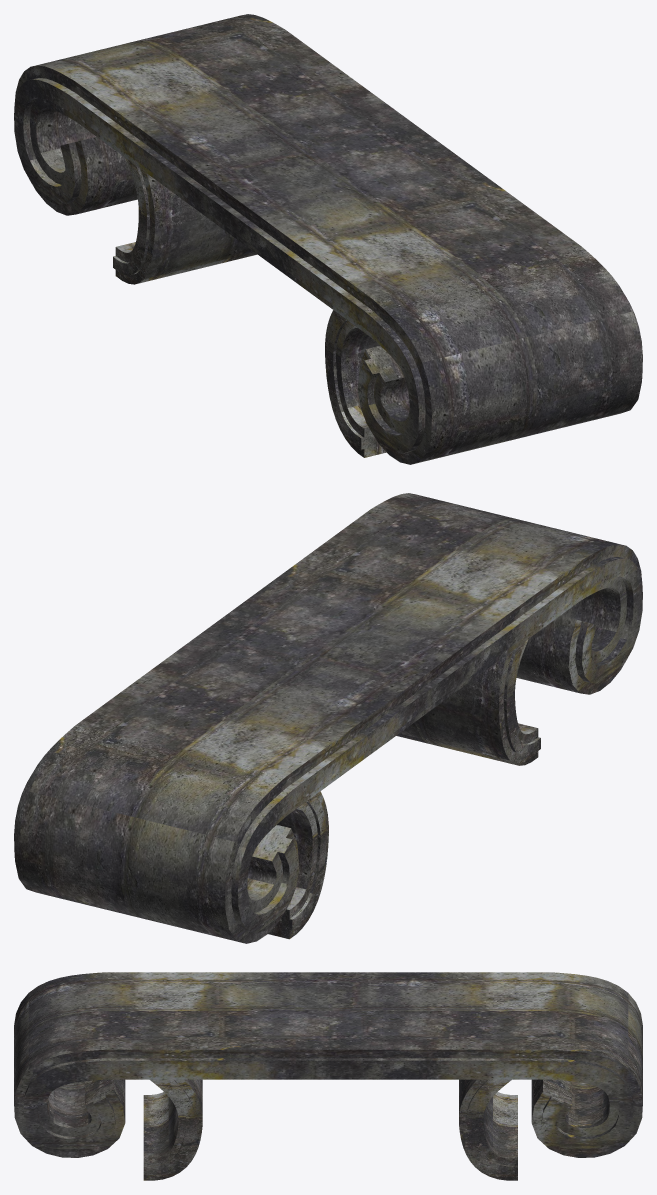
File: cemetery_bench.FBX
The picture shows the model from 3 angles, top to bottom: view 1: azimuth 30°, elevation 25°; view 2: azimuth 150°, elevation 25°; view 3: azimuth 270°, elevation 25°; orthographic projection. The views are drawn at different scales.
Visible parts, largest first — view 1: cemetery_bench; view 2: cemetery_bench; view 3: cemetery_bench.
Part boxes in pixels (<box>): cemetery_bench: <box>14,14,642,464</box>; cemetery_bench: <box>14,493,642,943</box>; cemetery_bench: <box>14,972,642,1180</box>.
Size of the model in its own units: 3.63 by 2.84 by 11.73.
